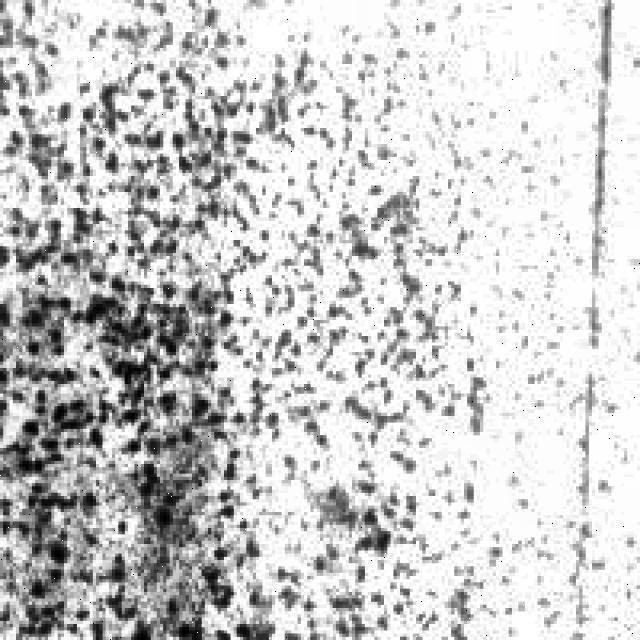Rolled_in_Scale: (7, 0, 500, 634)
